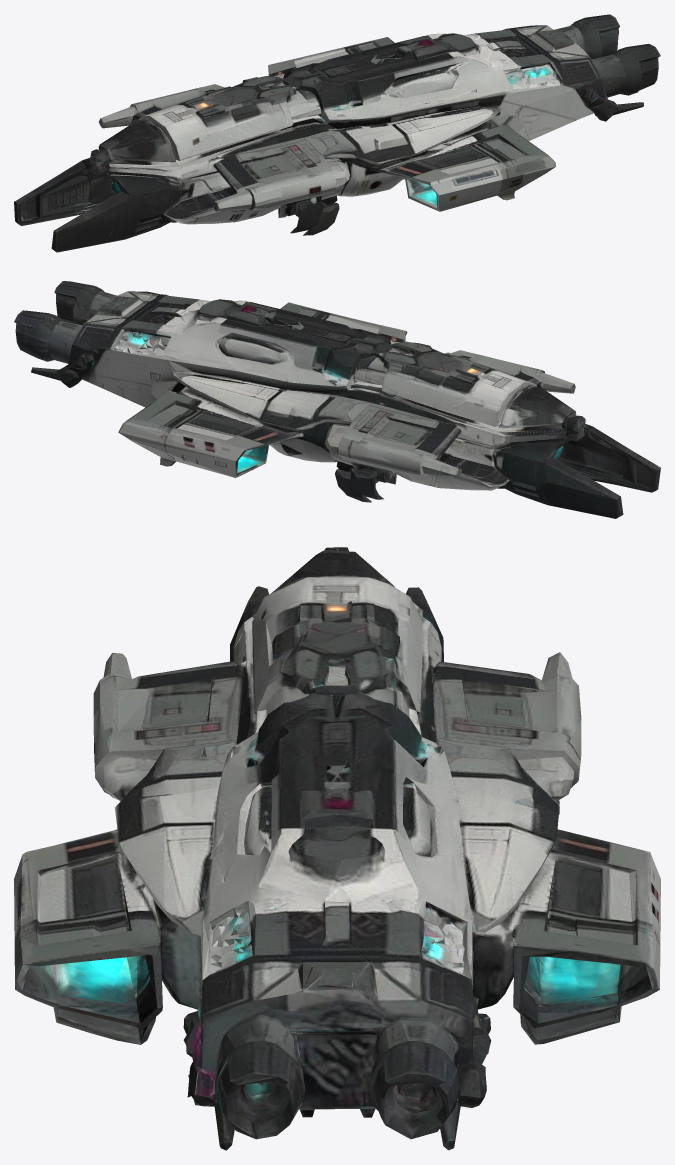
The model's file is vessel-phoenix.glb.
3 renders of one model, top to bottom at view 1: azimuth 30°, elevation 25°; view 2: azimuth 150°, elevation 25°; view 3: azimuth 270°, elevation 25°, orthographic. The views are drawn at different scales.
Size of the model in its own units: 1.9 by 0.4623 by 0.9208.
Materials: 1 (1 with a texture image).
